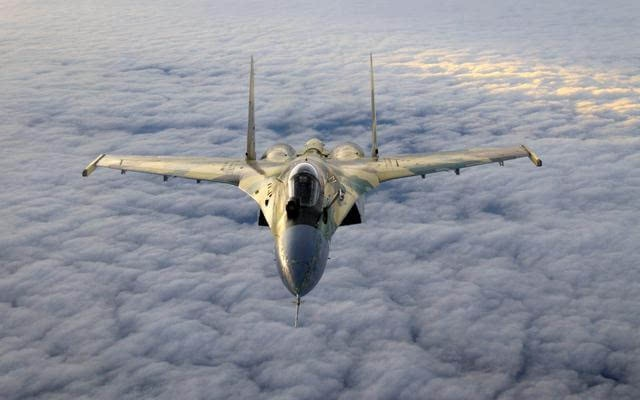airplane: (78, 47, 546, 328)
